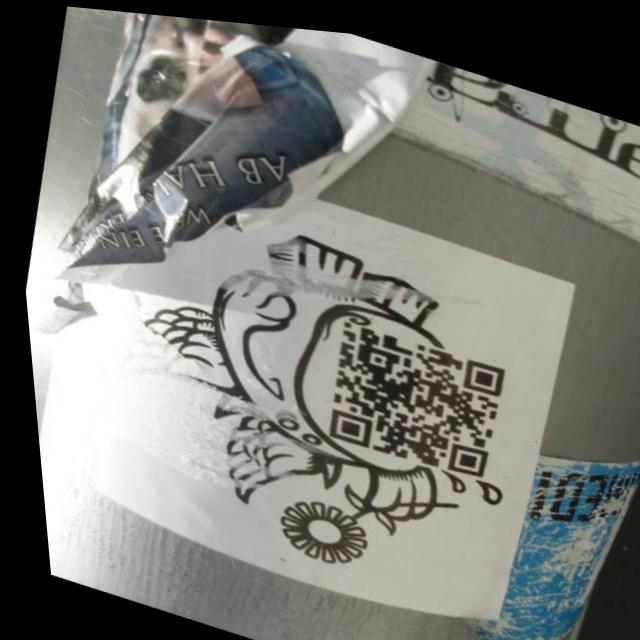qrcode: (312, 310, 506, 478)
